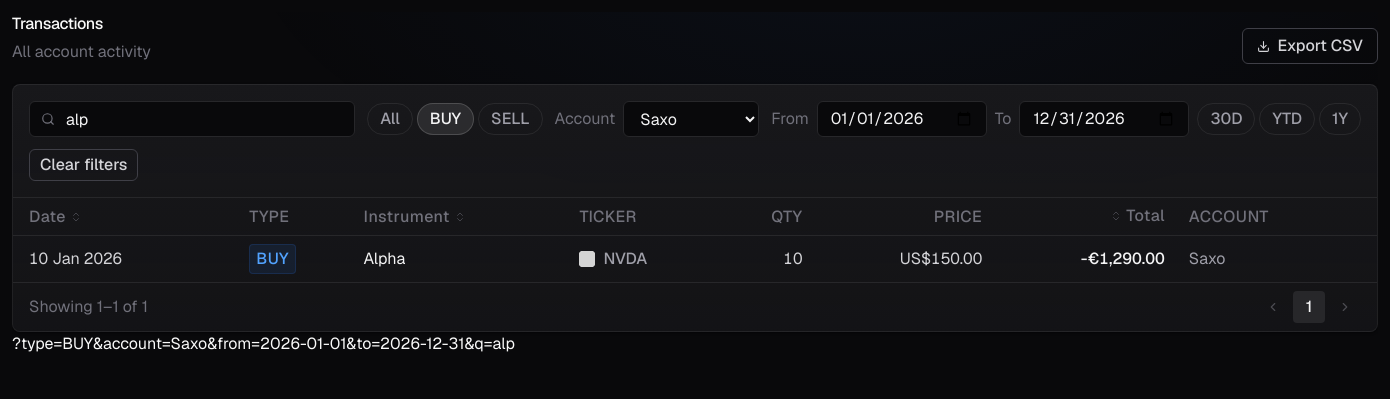
Transactions filters › clears search, type, account and dates together from the toolbar
The width and height of the screenshot is (1390, 399).
Click the button "Clear filters" at (84, 165), box [29,149,138,181]
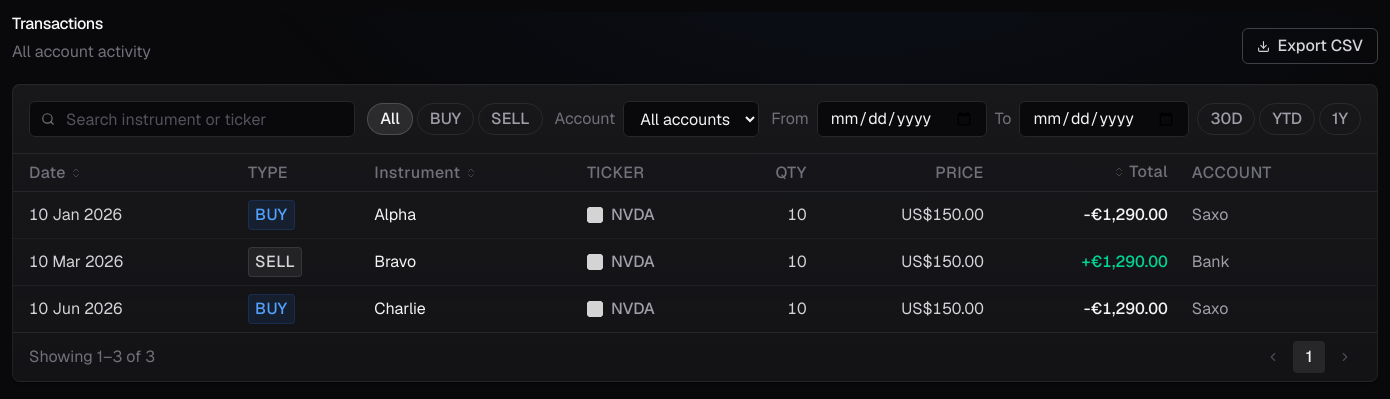
Expected: the dropdown labelled "Account" shows "All accounts", [623,101,759,137]
Expected: the date field labelled "From" is empty, [817,101,987,137]
Expected: the button "Clear filters" is gone
